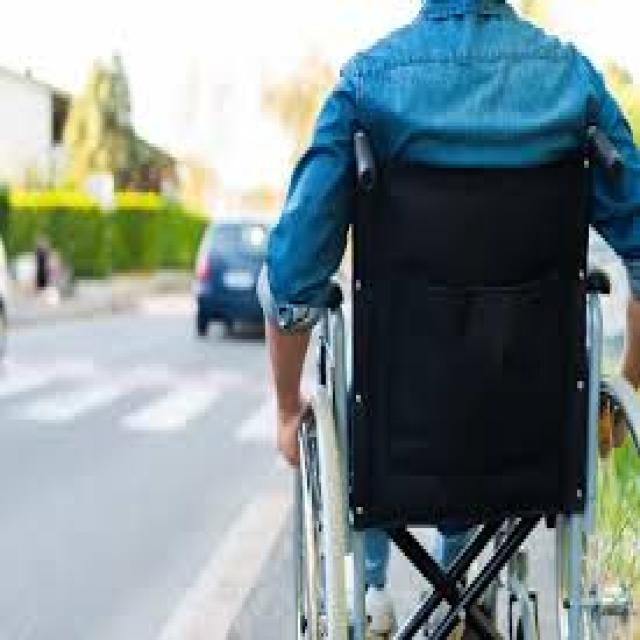wheelchairs: (272, 129, 626, 640)
